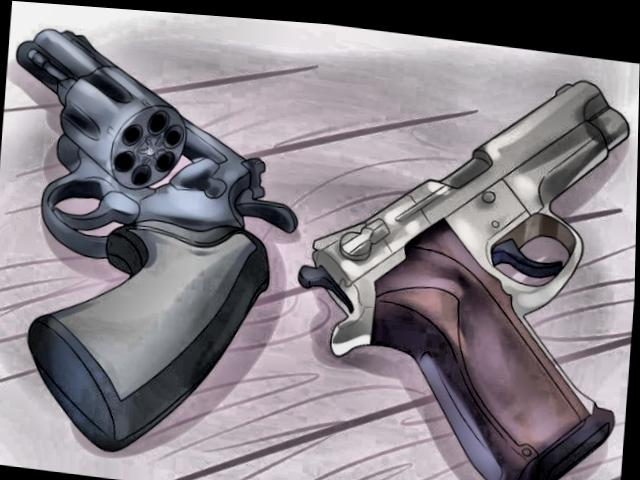pistol: (285, 40, 640, 480), (0, 22, 321, 479)
